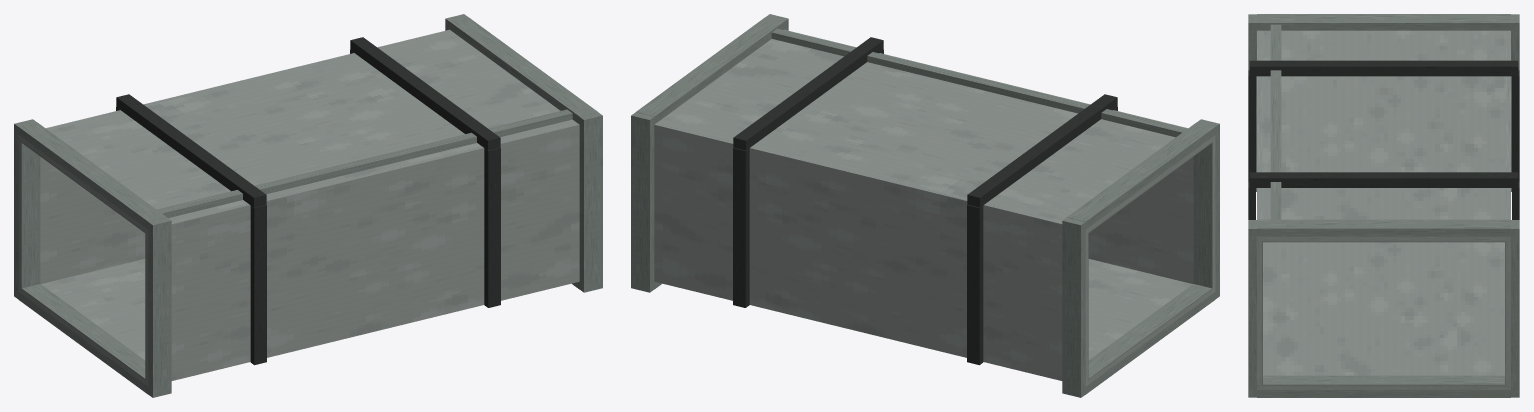
File: hvac_duct_short.glb
3 renders of one model, left to right at view 1: azimuth 30°, elevation 25°; view 2: azimuth 150°, elevation 25°; view 3: azimuth 270°, elevation 25°, orthographic. The views are drawn at different scales.
Visible parts, largest first — view 1: hvac_duct_short; view 2: hvac_duct_short; view 3: hvac_duct_short.
Boxes of the visible parts, left/top/right/bottom form: hvac_duct_short: left=14, top=14, right=602, bottom=397; hvac_duct_short: left=631, top=14, right=1219, bottom=397; hvac_duct_short: left=1248, top=14, right=1519, bottom=397.
Bounding box in the file's own units: 1.2 × 0.446 × 0.641.
3 materials, 3 textured.
